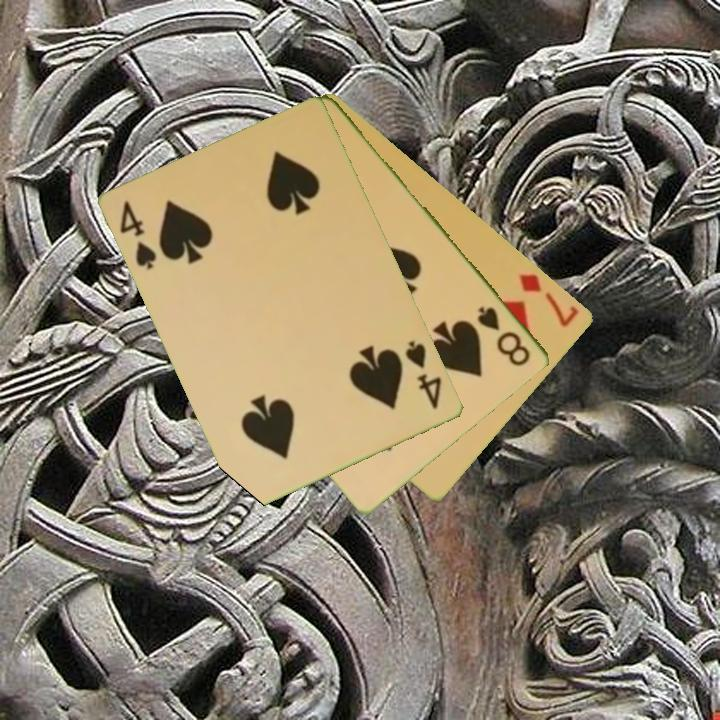4s: (116, 197, 161, 272), (402, 337, 445, 413)
7d: (516, 270, 583, 330)
8s: (474, 302, 534, 369)
